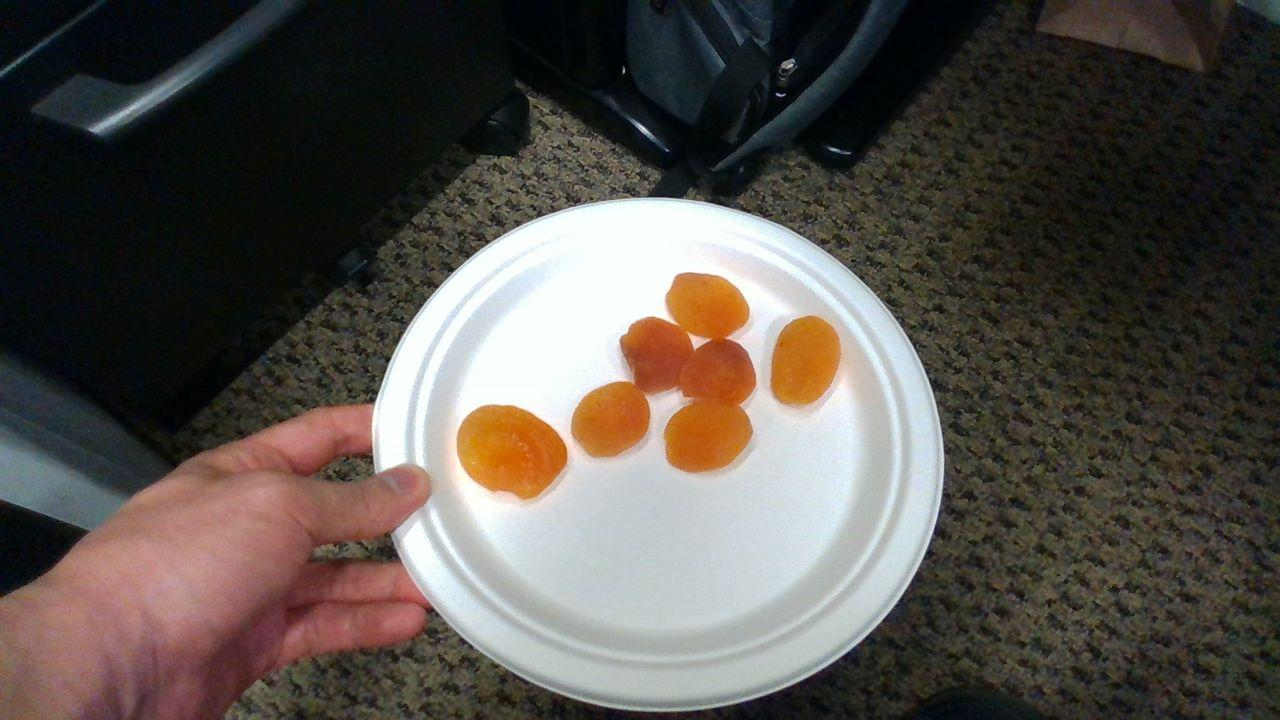apricot: (457, 405, 568, 500), (771, 317, 840, 405), (665, 405, 753, 472), (573, 382, 650, 457), (622, 316, 693, 393), (668, 273, 750, 338), (681, 339, 758, 405)
